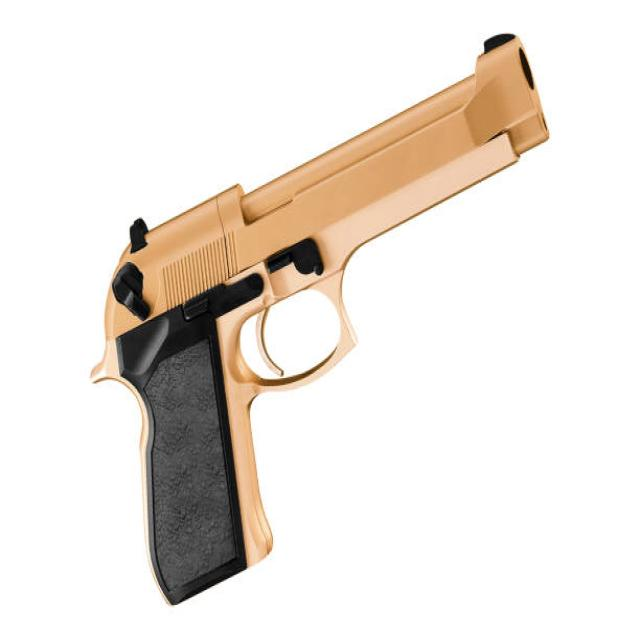pistol: (90, 20, 552, 610)
